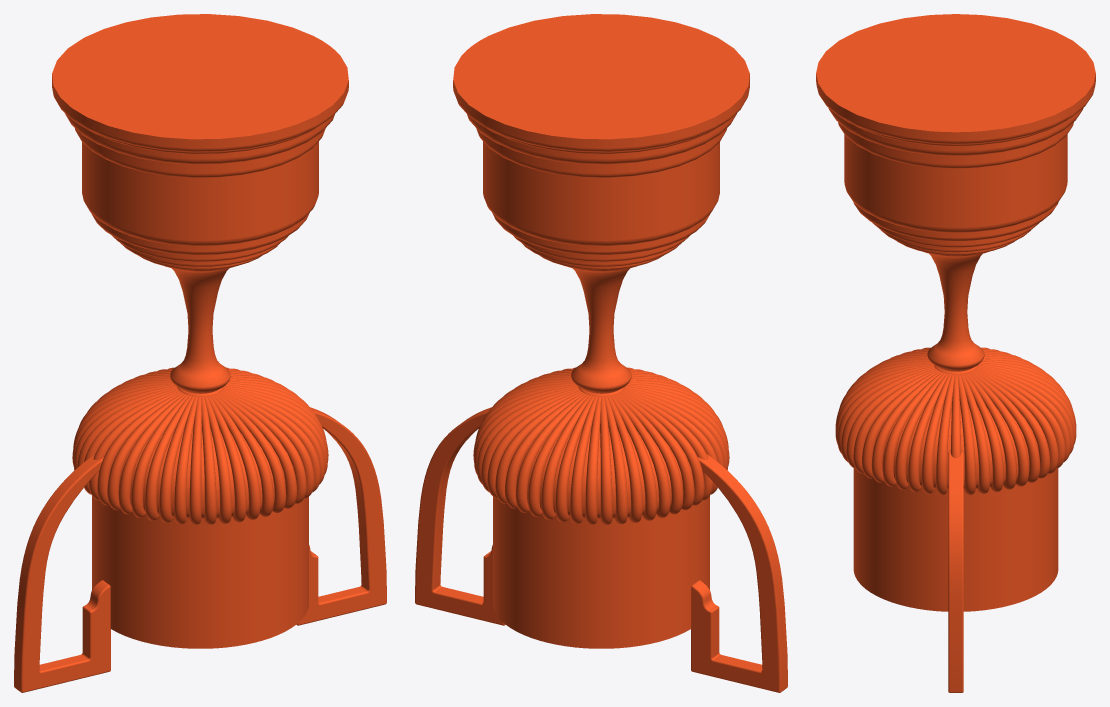
Rendered from copadelrey.obj.
The picture shows the model from 3 angles, left to right: view 1: azimuth 30°, elevation 25°; view 2: azimuth 150°, elevation 25°; view 3: azimuth 270°, elevation 25°; orthographic projection. The views are drawn at different scales.
Parts seen in each view (by area): view 1: Object_3.001; view 2: Object_3.001; view 3: Object_3.001.
Boxes of the visible parts, left/top/right/bottom form: Object_3.001: left=14, top=14, right=386, bottom=692; Object_3.001: left=415, top=14, right=787, bottom=692; Object_3.001: left=816, top=14, right=1095, bottom=692.
Bounding box in the file's own units: 43.68 × 64.95 × 30.71.
